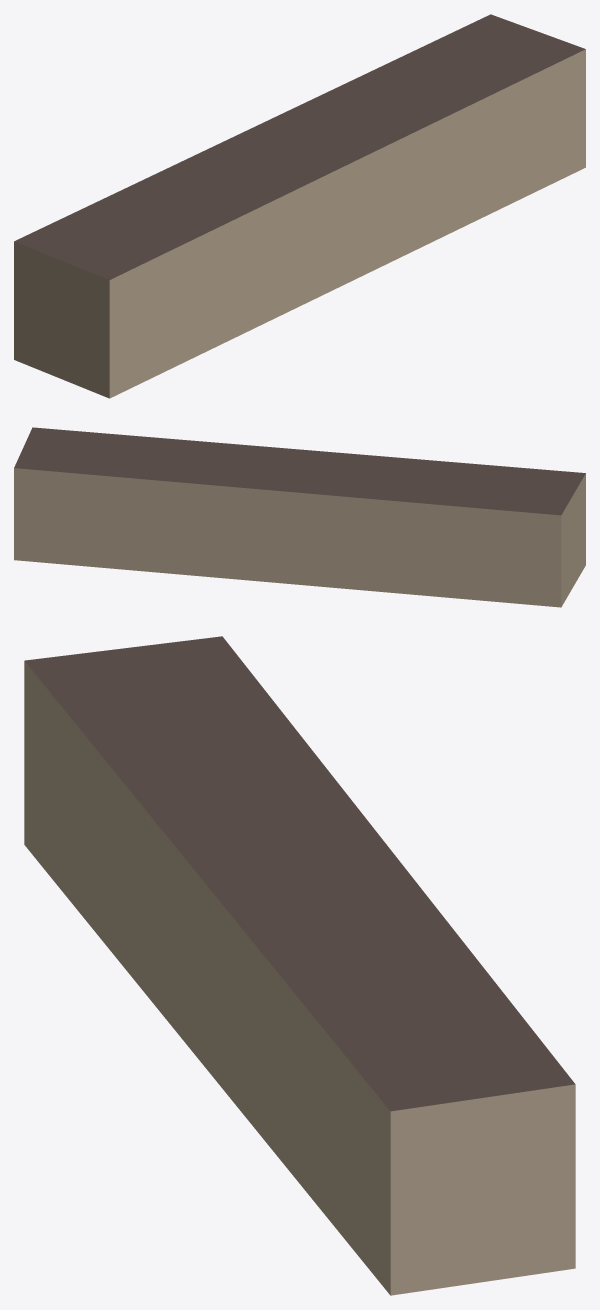
3 renders of one model, top to bottom at view 1: azimuth 30°, elevation 25°; view 2: azimuth 150°, elevation 25°; view 3: azimuth 270°, elevation 25°, orthographic. The views are drawn at different scales.
Parts seen in each view (by area): view 1: HP-w1512914139; view 2: HP-w1512914139; view 3: HP-w1512914139.
Part boxes in pixels (x1=…): HP-w1512914139: x1=14, y1=14, x2=585, y2=398; HP-w1512914139: x1=14, y1=427, x2=585, y2=607; HP-w1512914139: x1=24, y1=636, x2=575, y2=1295.
Size of the model in its own units: 49.78 by 9 by 24.4.
